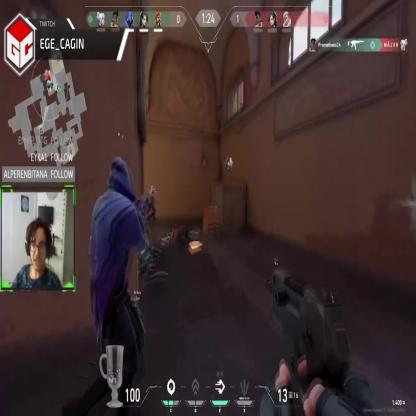enemy: (149, 184, 157, 222)
enemy_head: (150, 185, 154, 193)
